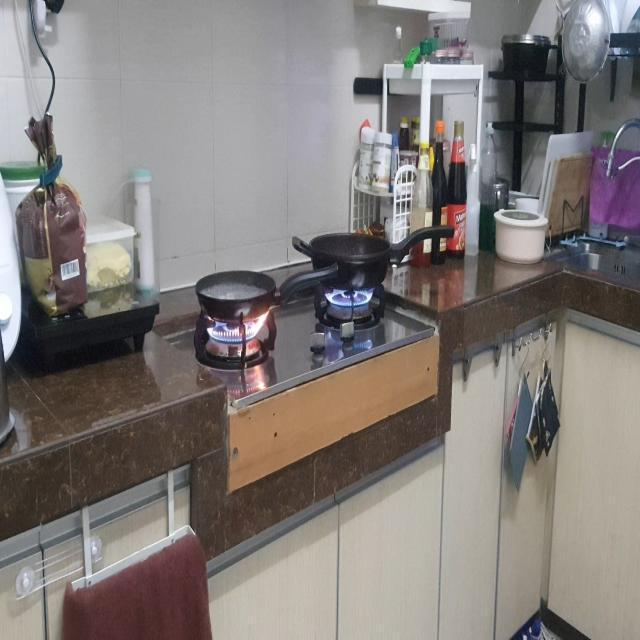smoke: (202, 308, 274, 347), (324, 281, 376, 311)
